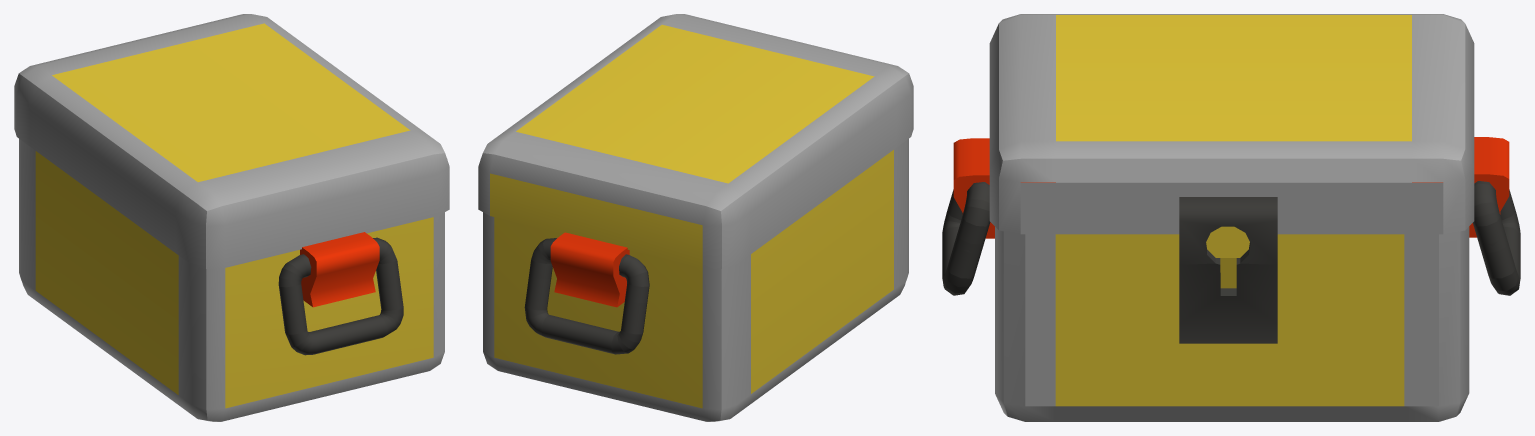
Rendered from boat_3.fbx.
The picture shows the model from 3 angles, left to right: view 1: azimuth 30°, elevation 25°; view 2: azimuth 150°, elevation 25°; view 3: azimuth 270°, elevation 25°; orthographic projection. The views are drawn at different scales.
Parts seen in each view (by area): view 1: polySurface197; view 2: polySurface197; view 3: polySurface197.
Boxes of the visible parts, x1,y1,x2,y2 form: polySurface197: (14, 14, 449, 421); polySurface197: (478, 14, 913, 421); polySurface197: (942, 14, 1520, 421).
Bounding box in the file's own units: 141 × 113 × 210.
